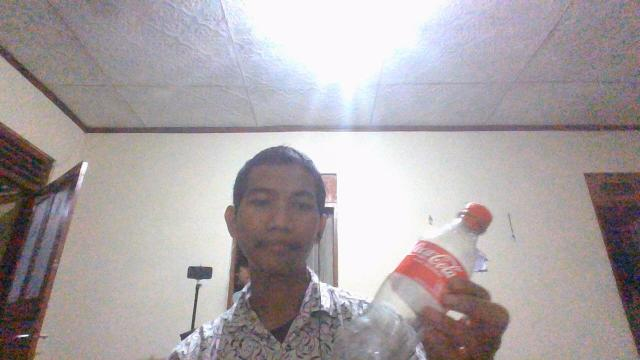coca-cola: (351, 200, 494, 360)
